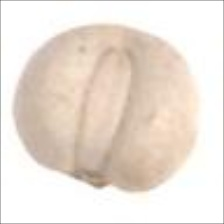L5: (72, 46, 136, 170), (63, 170, 134, 194)
L6: (12, 21, 199, 195)
